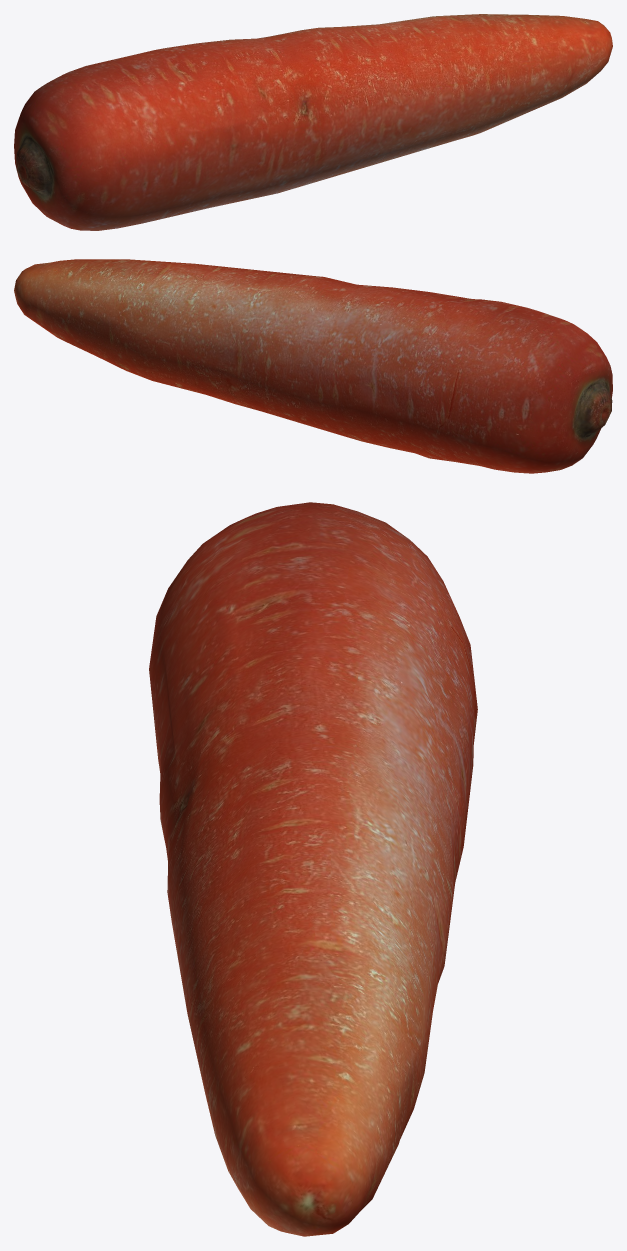
3 renders of one model, top to bottom at view 1: azimuth 30°, elevation 25°; view 2: azimuth 150°, elevation 25°; view 3: azimuth 270°, elevation 25°, orthographic. The views are drawn at different scales.
Visible parts, largest first — view 1: 07_carrot; view 2: 07_carrot; view 3: 07_carrot.
Boxes of the visible parts, <box> form: 07_carrot: <box>14,14,612,230</box>; 07_carrot: <box>14,259,612,473</box>; 07_carrot: <box>149,502,477,1236</box>.
Bounding box in the file's own units: 1.42 × 0.3598 × 0.3432.
Materials: 1 (1 with a texture image).
